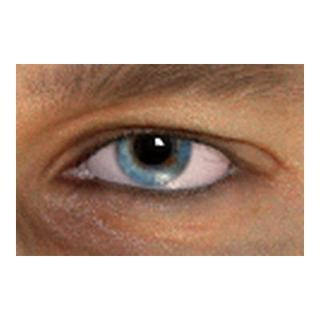pupil: (134, 128, 171, 165)
